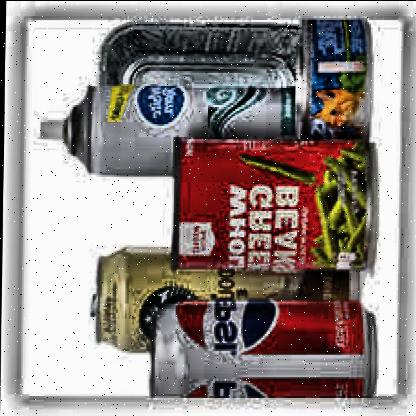Can: (166, 134, 382, 276), (35, 82, 302, 178), (147, 296, 381, 402), (292, 11, 376, 143)
